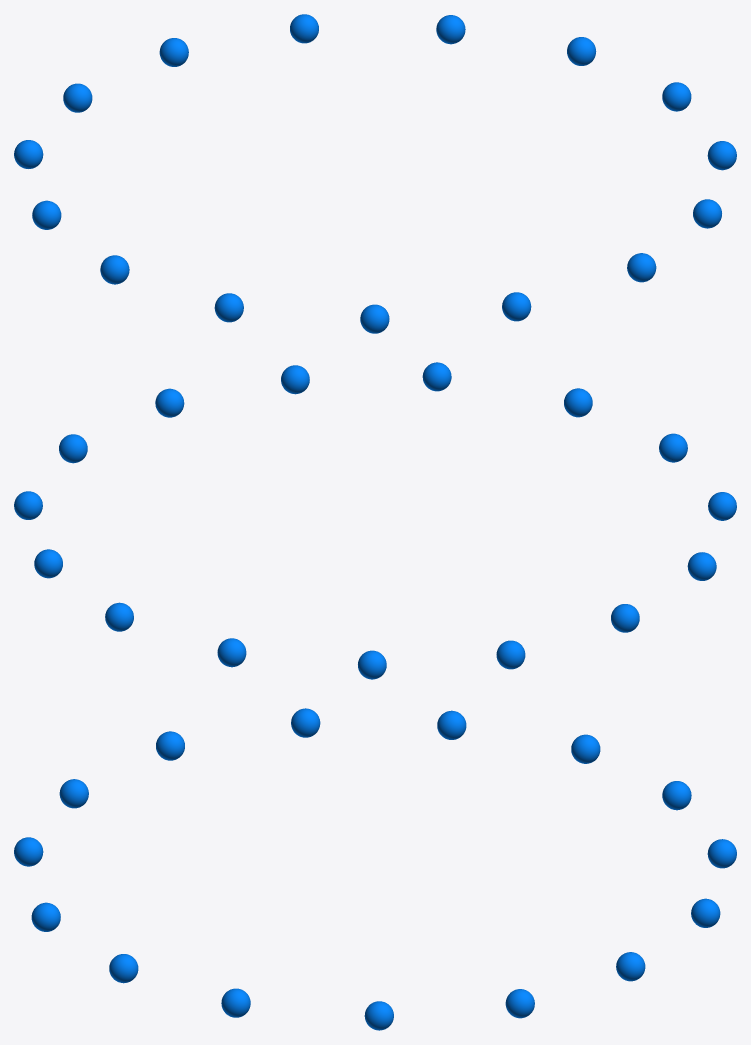
The picture shows the model from 3 angles, top to bottom: view 1: azimuth 30°, elevation 25°; view 2: azimuth 150°, elevation 25°; view 3: azimuth 270°, elevation 25°; orthographic projection.
Visible parts, largest first — view 1: Sphere052; view 2: Sphere052; view 3: Sphere052.
Part boxes in pixels (<box>): Sphere052: <box>14,14,736,333</box>; Sphere052: <box>14,362,736,679</box>; Sphere052: <box>14,708,736,1030</box>.
Size of the model in its own units: 202 by 8.22 by 202.
